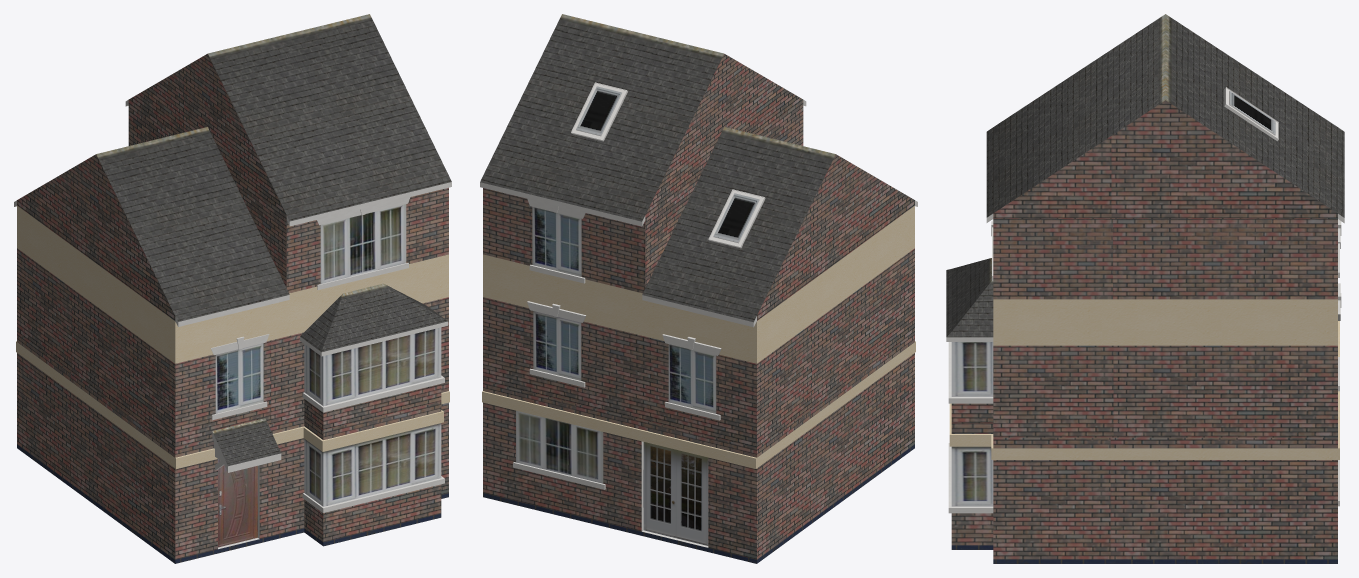
File: modernterrace3story2m.FBX
The picture shows the model from 3 angles, left to right: view 1: azimuth 30°, elevation 25°; view 2: azimuth 150°, elevation 25°; view 3: azimuth 270°, elevation 25°; orthographic projection. The views are drawn at different scales.
Parts seen in each view (by area): view 1: Box001; view 2: Box001; view 3: Box001.
Part boxes in pixels (x1=…): Box001: x1=14, y1=14, x2=451, y2=563; Box001: x1=480, y1=14, x2=917, y2=563; Box001: x1=946, y1=14, x2=1344, y2=563.
Size of the model in its own units: 800 by 1188 by 925.
